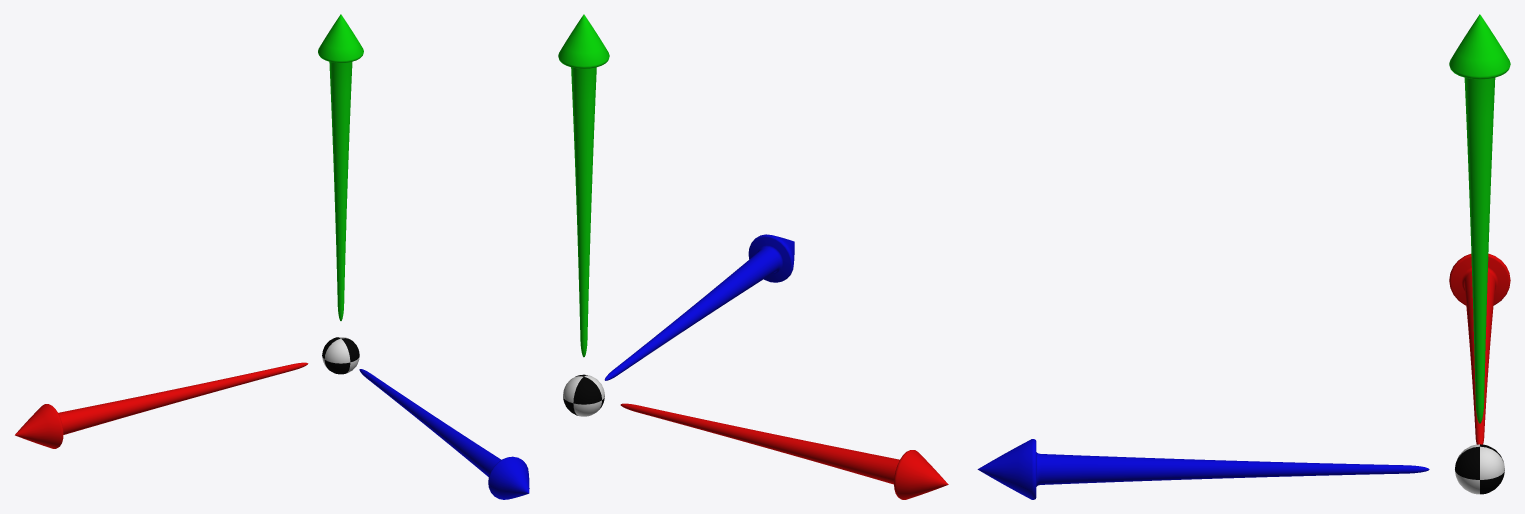
The model's file is Gnomon.fbx.
3 renders of one model, left to right at view 1: azimuth 30°, elevation 25°; view 2: azimuth 150°, elevation 25°; view 3: azimuth 270°, elevation 25°, orthographic. The views are drawn at different scales.
Visible parts, largest first — view 1: Axis; view 2: Axis; view 3: Axis.
Boxes of the visible parts, x1,y1,x2,y2 form: Axis: (15, 14, 529, 499); Axis: (558, 14, 948, 499); Axis: (977, 14, 1510, 499).
Size of the model in its own units: 106 by 106 by 106.
